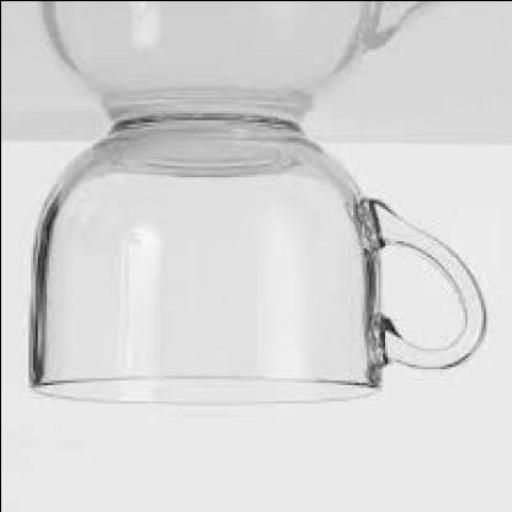glass: (27, 119, 483, 404)
